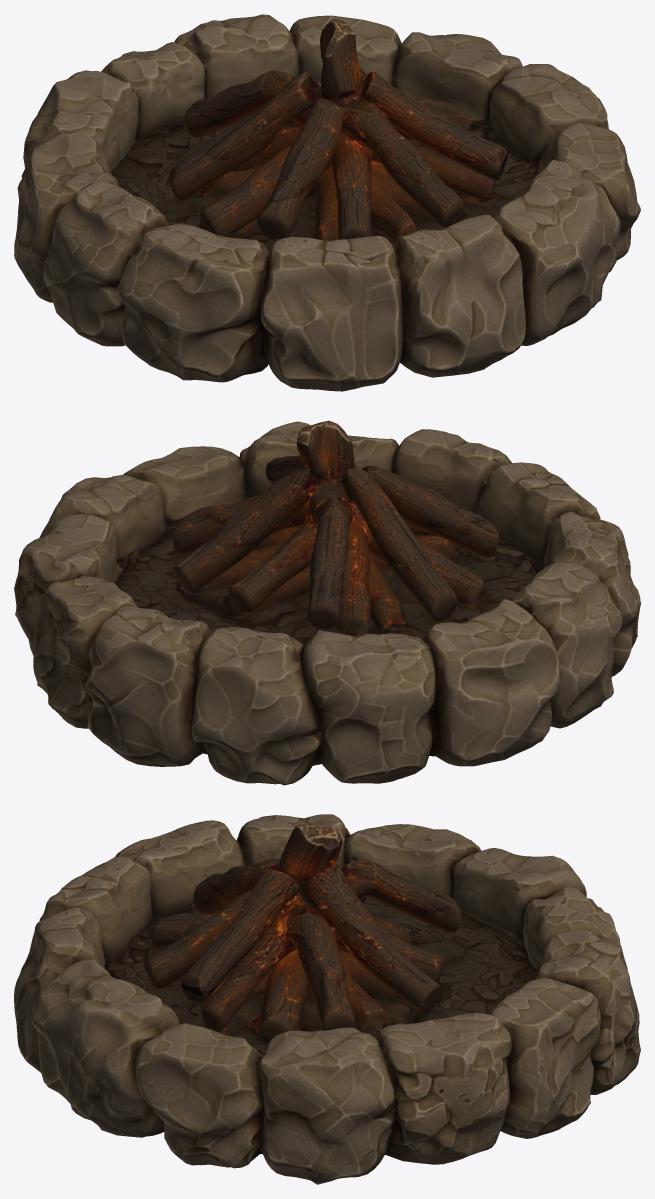
File: stone_fire_pit_3d_model.fbx
The picture shows the model from 3 angles, top to bottom: view 1: azimuth 30°, elevation 25°; view 2: azimuth 150°, elevation 25°; view 3: azimuth 270°, elevation 25°; orthographic projection. The views are drawn at different scales.
Parts seen in each view (by area): view 1: tripo_node_9057156d; view 2: tripo_node_9057156d; view 3: tripo_node_9057156d.
Part boxes in pixels (bbox=[...]): tripo_node_9057156d: bbox=[14, 14, 640, 391]; tripo_node_9057156d: bbox=[14, 420, 640, 785]; tripo_node_9057156d: bbox=[14, 814, 640, 1184].
Size of the model in its own units: 0.9706 by 0.4137 by 0.977.
